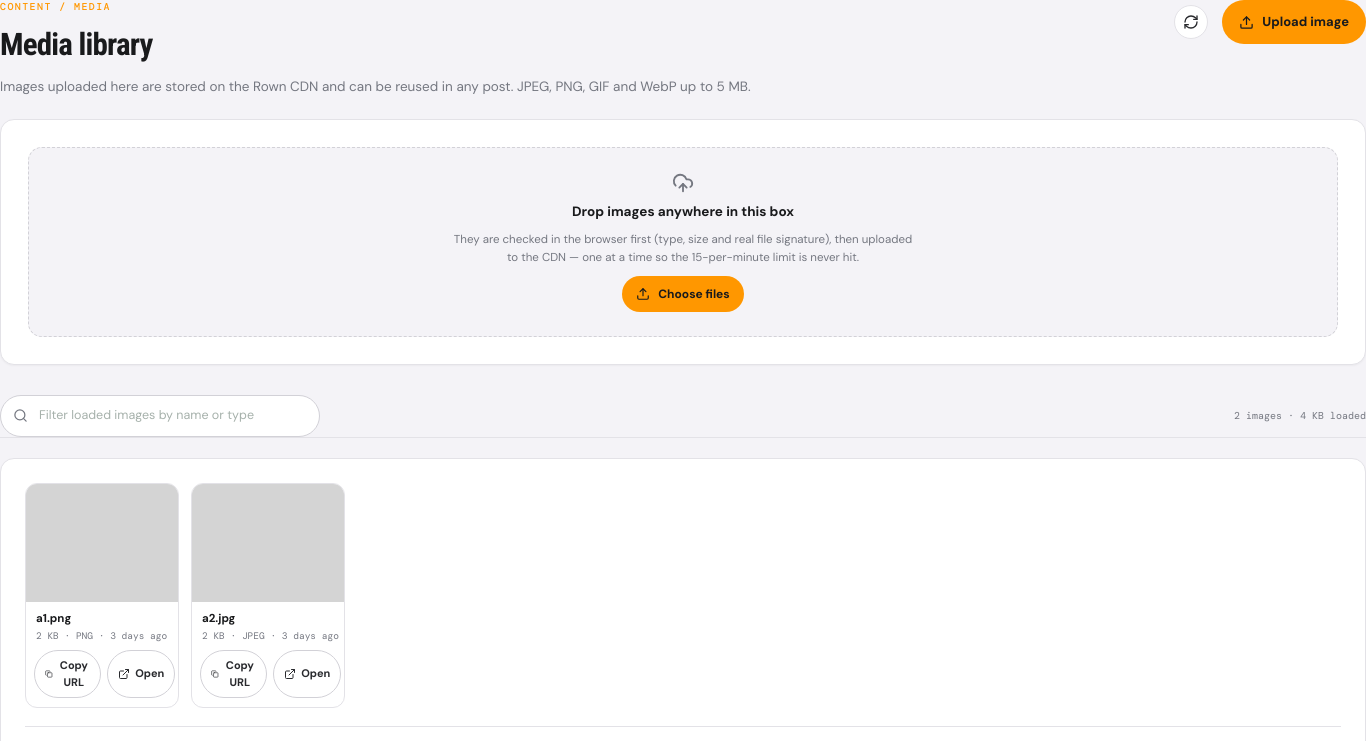
it: BlogMediaPage · the library › filters the loaded page by name
Check: the text "a1.png" is shown, box x1=36 y1=611 x2=71 y2=626
Type "a2" into the field named "Filter images" at point(178, 416), box x1=39 y1=399 x2=316 y2=433
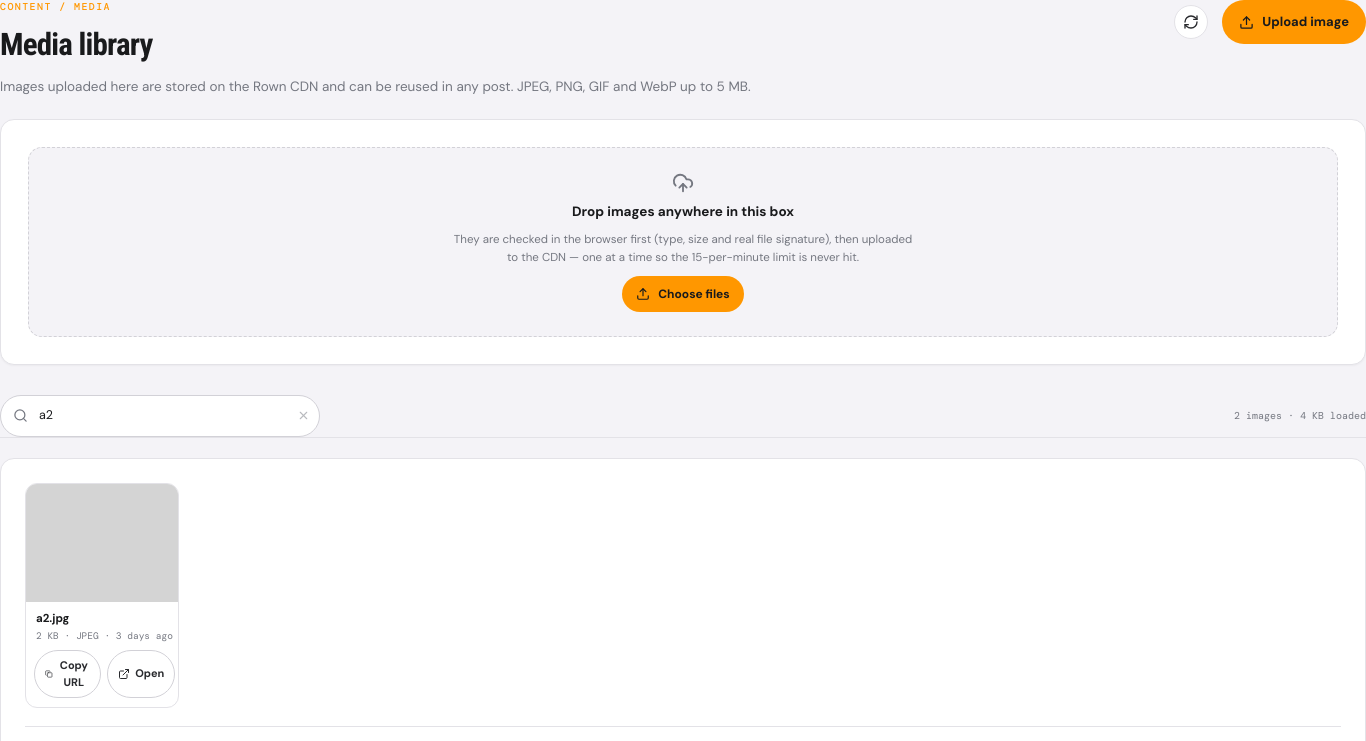
Check: the text "a2.jpg" is shown, box x1=36 y1=611 x2=70 y2=626
Check: the button "a1.png" is gone
Replace the text in the field named "Filter images" with "zzz" at point(159, 416), box x1=39 y1=399 x2=279 y2=433
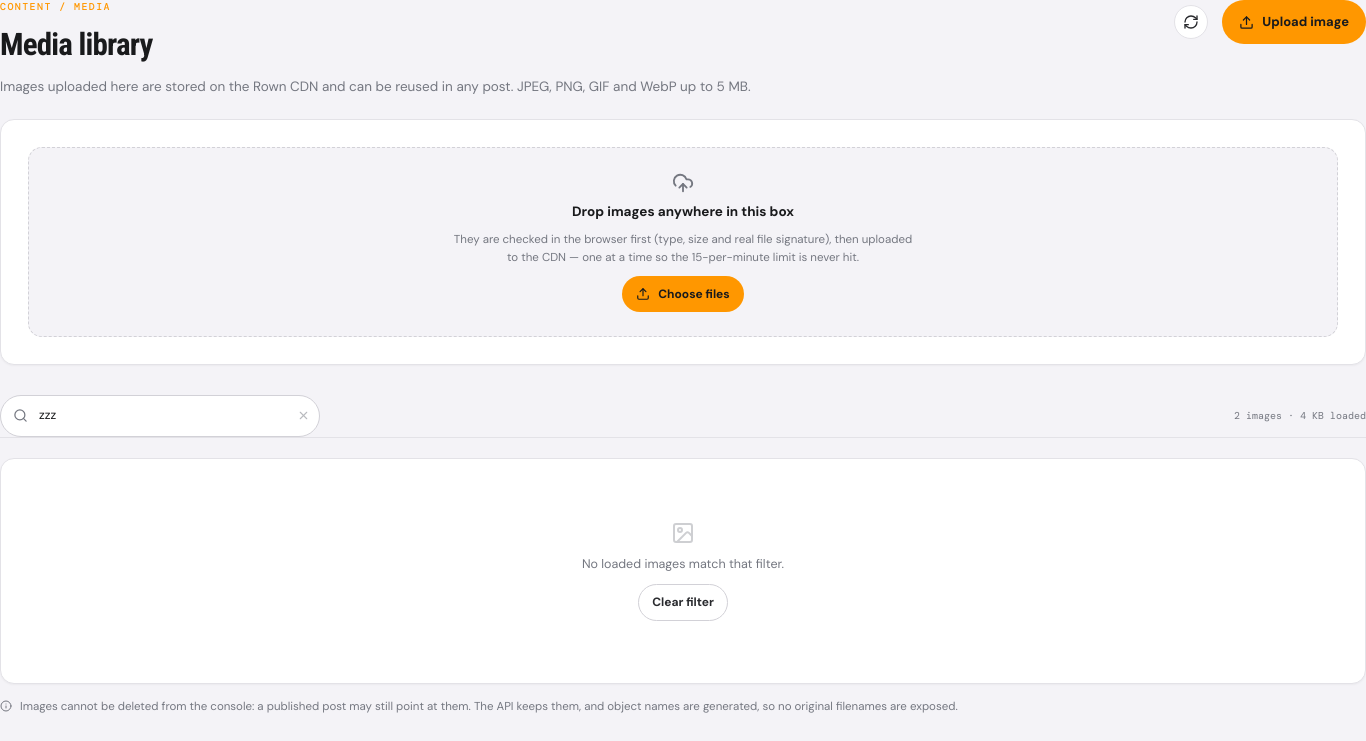
Check: the button named "clear filter" is shown, box x1=290 y1=403 x2=316 y2=429
Check: the text "No loaded images match that filter." is shown, box x1=582 y1=555 x2=784 y2=574
Clear the field named "Filter images" at point(159, 416), box x1=39 y1=399 x2=279 y2=433
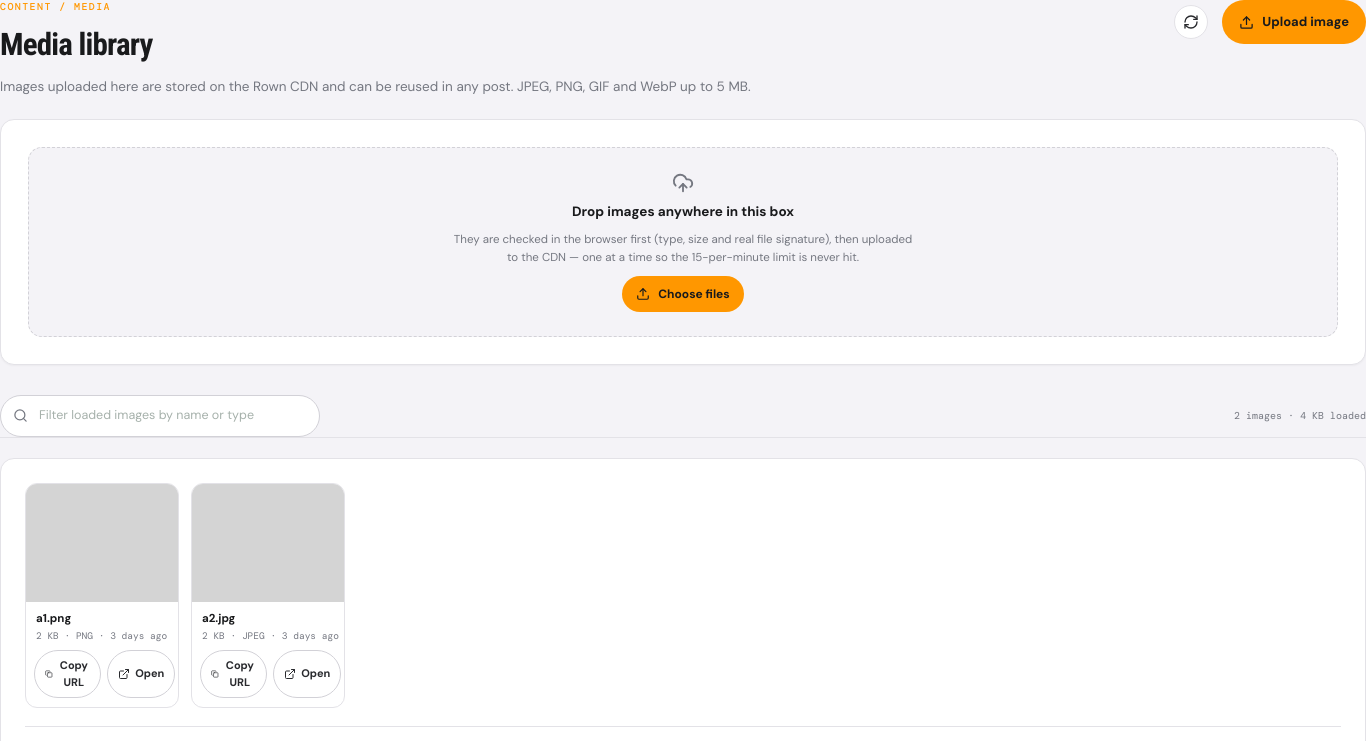
Check: the text "a1.png" is shown, box x1=36 y1=611 x2=71 y2=626
